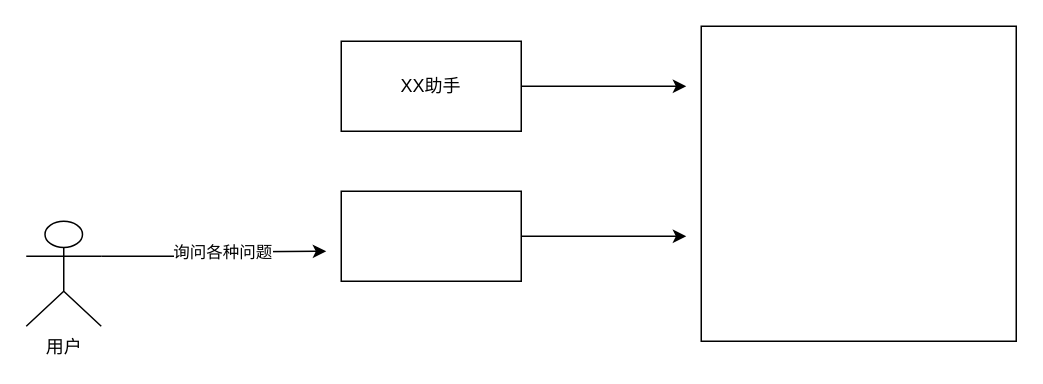
This 1043x384 diagram has some shape labels left out. The centre of each missing label's shape, as x and y in pixels:
"AI公共服务(python)" belongs at (x=858, y=183).
"差旅助手" belongs at (x=430, y=235).
